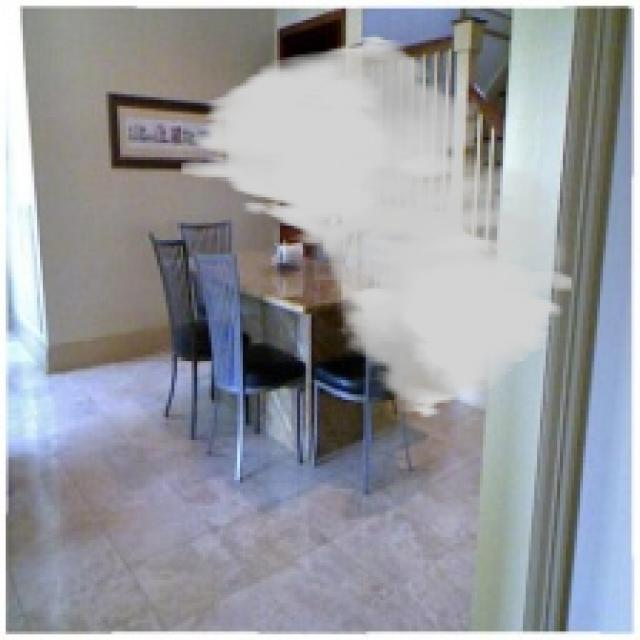smoke: (180, 34, 574, 420)
